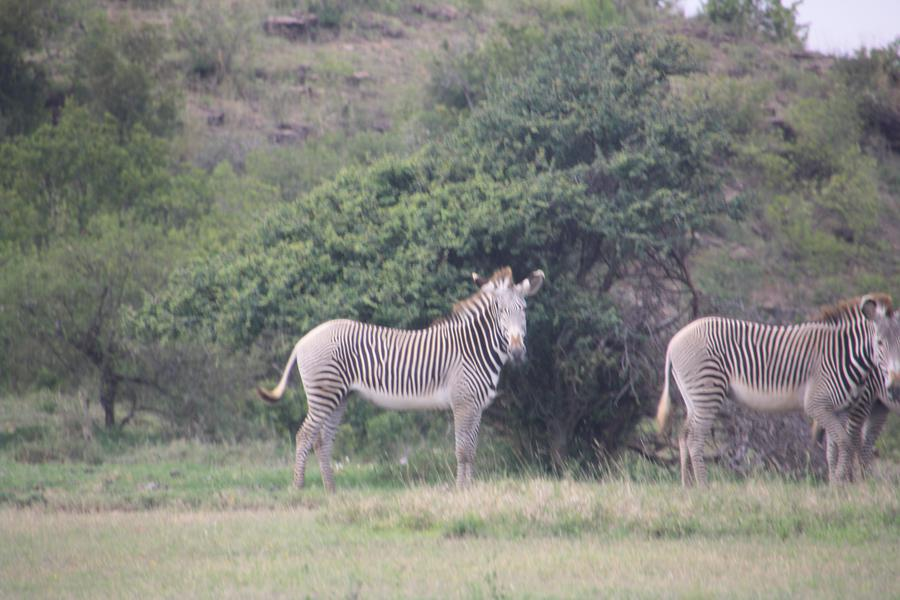zebra_grevys: (293, 307, 483, 407)
